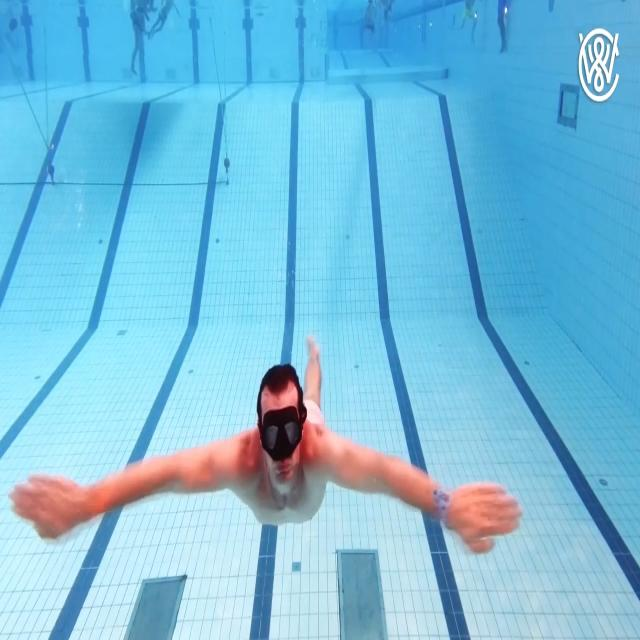Swimming: (9, 334, 525, 558)
